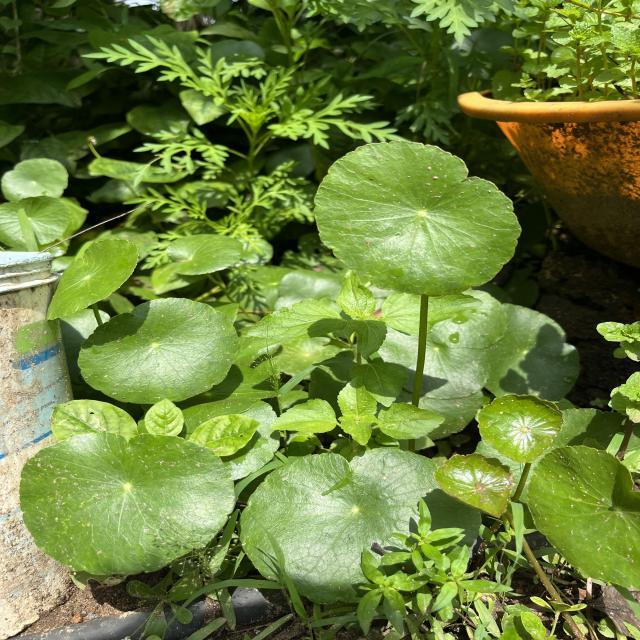Bacopa monnieri: (312, 137, 526, 300), (16, 426, 240, 578), (73, 295, 245, 406), (523, 442, 640, 594), (43, 234, 140, 323), (473, 392, 568, 464), (432, 449, 518, 519)
